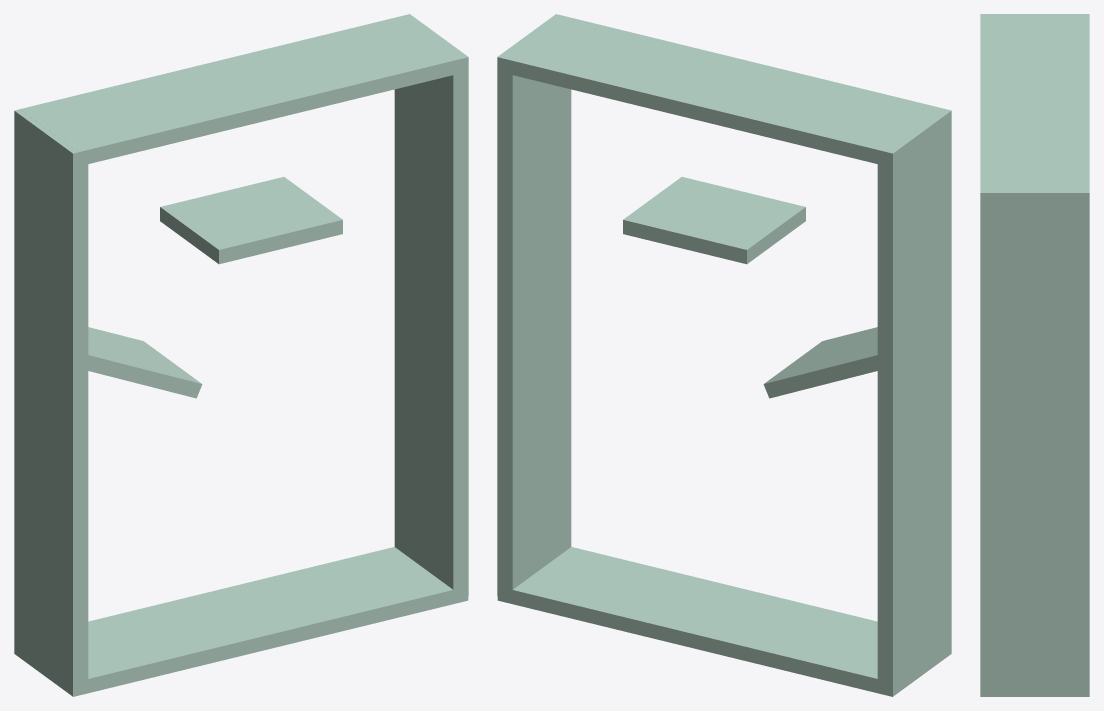
The picture shows the model from 3 angles, left to right: view 1: azimuth 30°, elevation 25°; view 2: azimuth 150°, elevation 25°; view 3: azimuth 270°, elevation 25°; orthographic projection. The views are drawn at different scales.
Visible parts, largest first — view 1: Wall__5_, Wall__4_, Wall_8__6_, Wall_8__2_, Wall_8__22_, Wall_8__21_; view 2: Wall__5_, Wall__4_, Wall_8__6_, Wall_8__2_, Wall_8__22_, Wall_8__21_; view 3: Wall__4_, Wall_8__6_, Wall_8__2_, Wall__5_.
Part boxes in pixels (x1,y1,x2,y2): Wall__5_: [14, 109, 88, 696]; Wall__4_: [394, 71, 468, 595]; Wall_8__6_: [20, 14, 468, 166]; Wall_8__2_: [73, 547, 468, 696]; Wall_8__22_: [160, 177, 342, 264]; Wall_8__21_: [75, 327, 202, 398]; Wall__5_: [877, 109, 951, 696]; Wall__4_: [497, 71, 571, 595]; Wall_8__6_: [497, 14, 945, 166]; Wall_8__2_: [497, 547, 892, 696]; Wall_8__22_: [623, 177, 805, 264]; Wall_8__21_: [763, 327, 890, 398]; Wall__4_: [980, 206, 1089, 692]; Wall_8__6_: [980, 16, 1089, 206]; Wall_8__2_: [980, 693, 1089, 696]; Wall__5_: [980, 14, 1089, 16].
Bounding box in the file's own units: 416 × 546 × 107.
